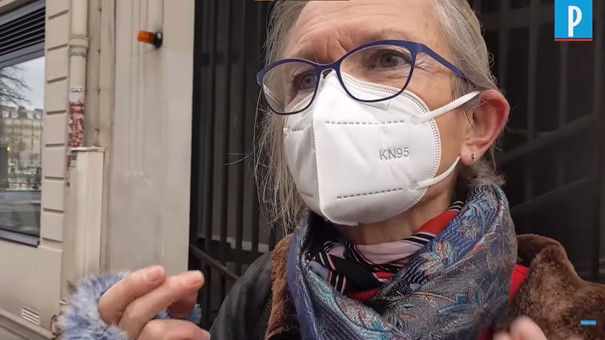with_mask: (263, 24, 459, 228)
